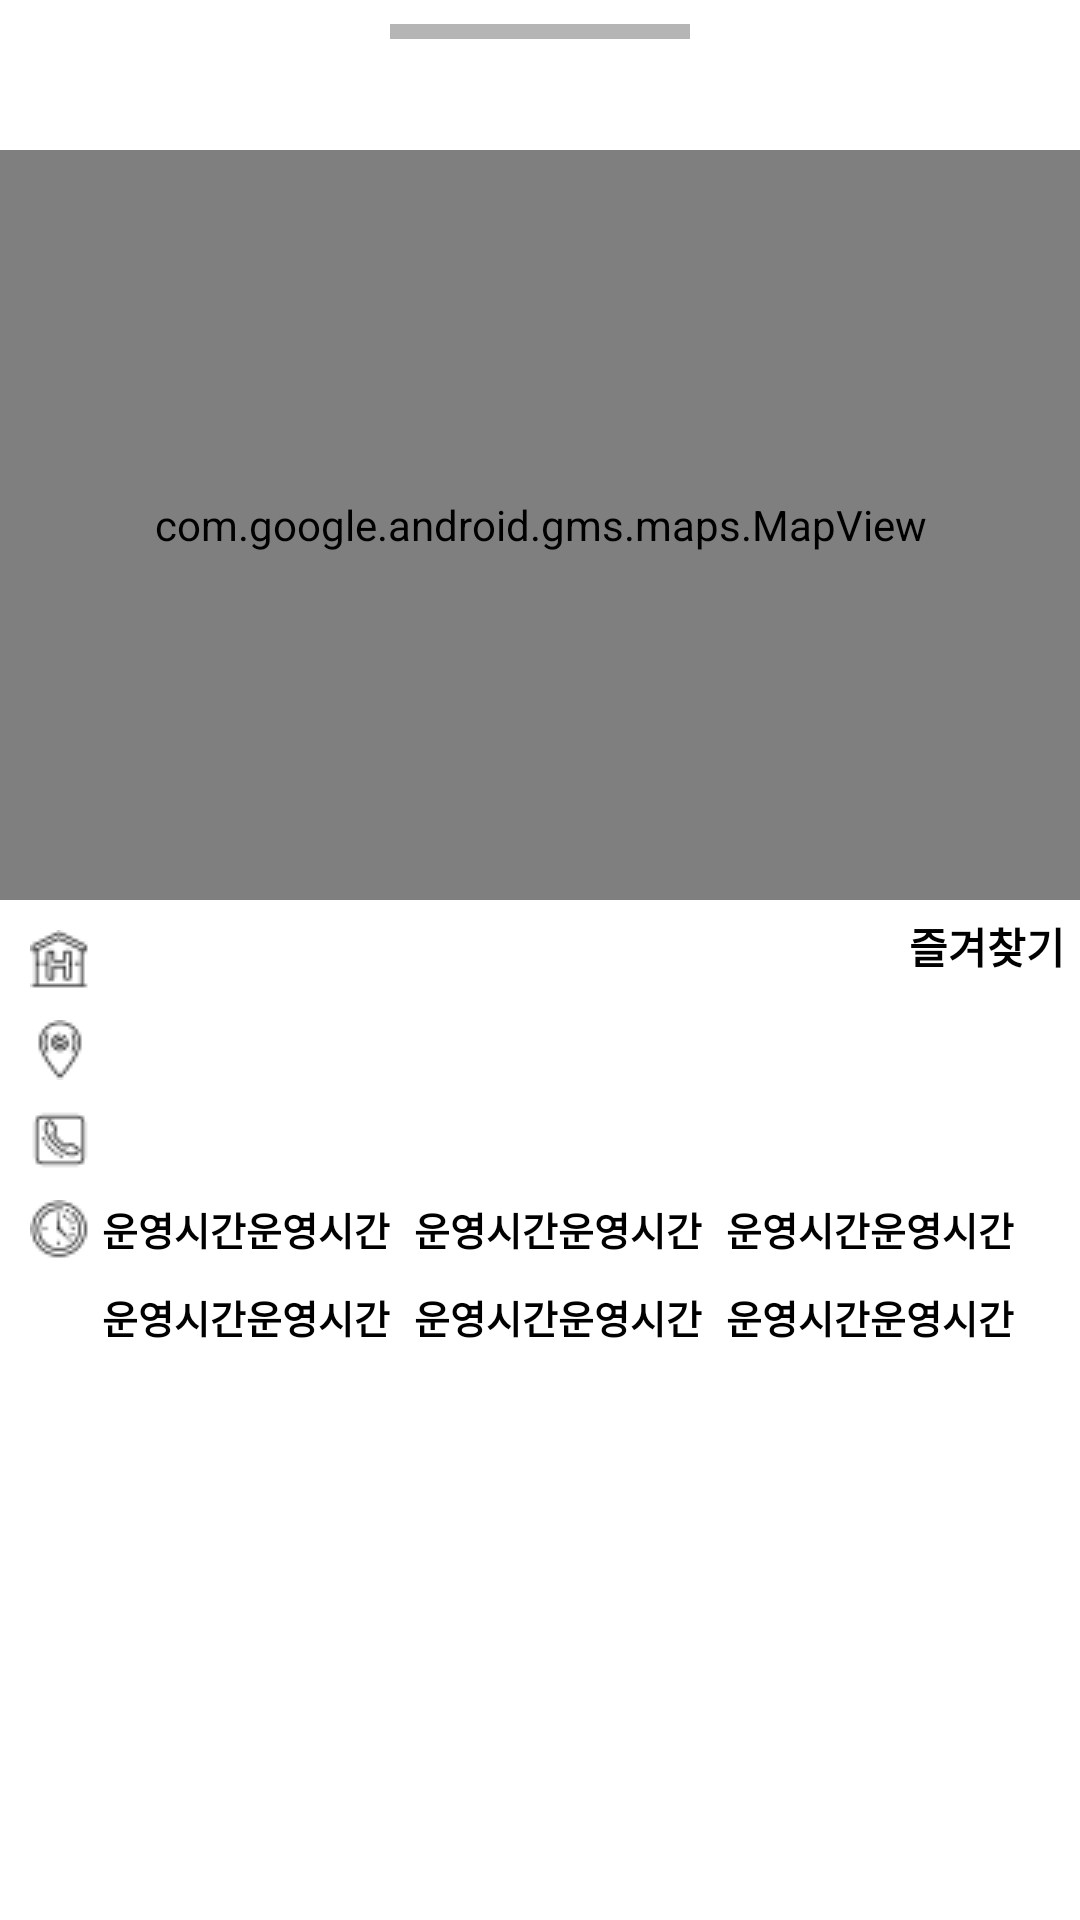

Locate icon controls on the screen. Image size 1080px x 1920px, boxes as (x1, y1, x2, y2).
clock: (30, 1200, 88, 1258)
